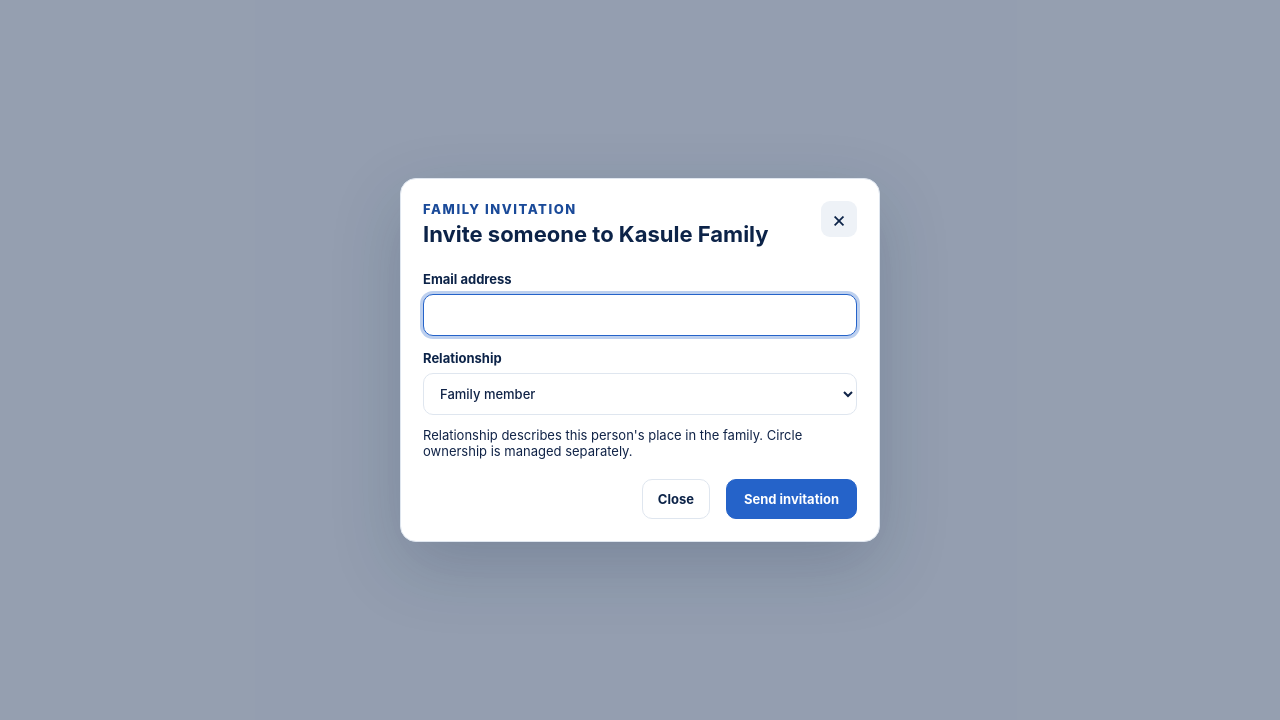
Test case: InviteMemberDialog › renders the normalized sent outcome safely
In the field labelled "Email address": (640, 315) [423,294,857,336], type "relative@example.test"
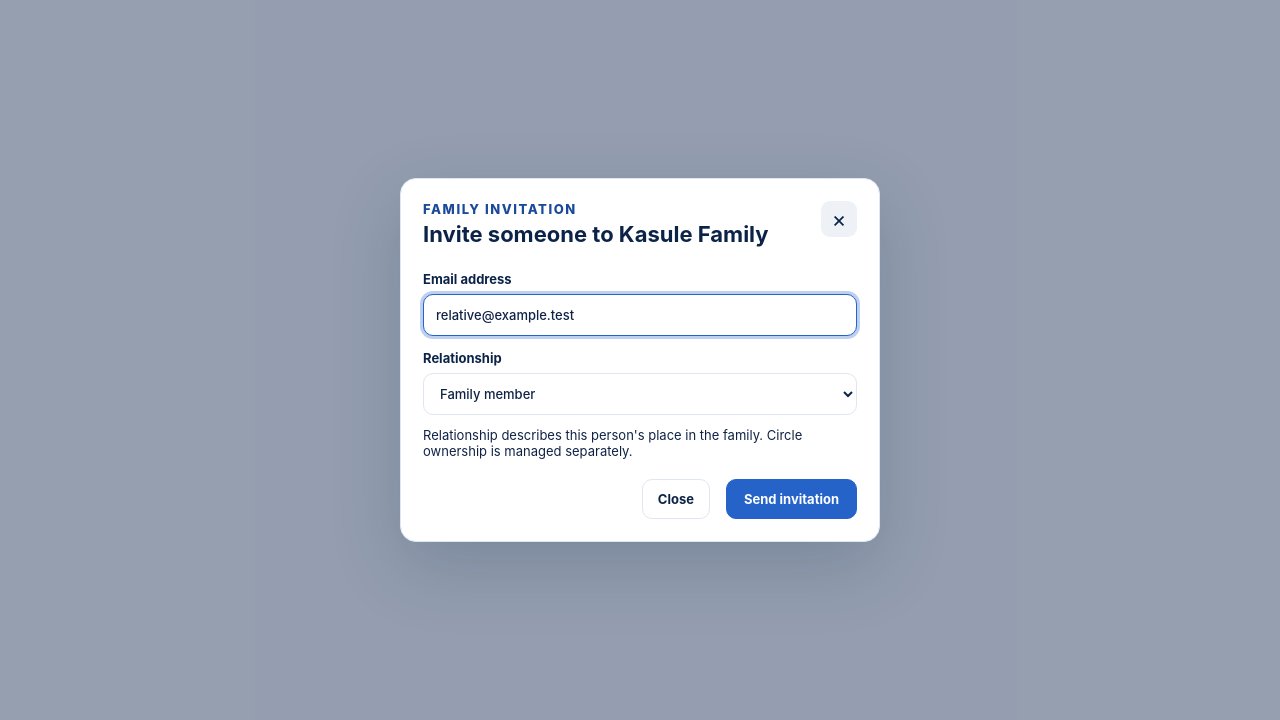
Click the button "Send invitation": (791, 499) [726,479,857,519]
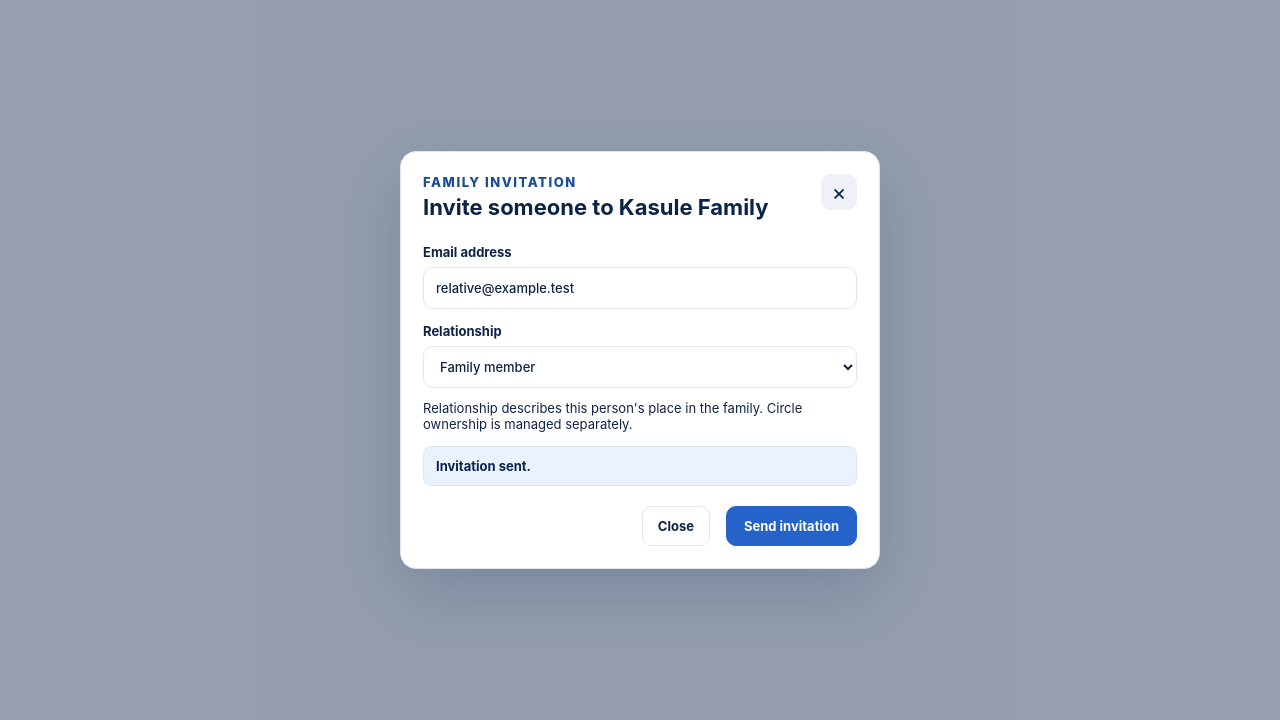
Result: the text "Invitation sent." is shown at [423,446,857,486]
